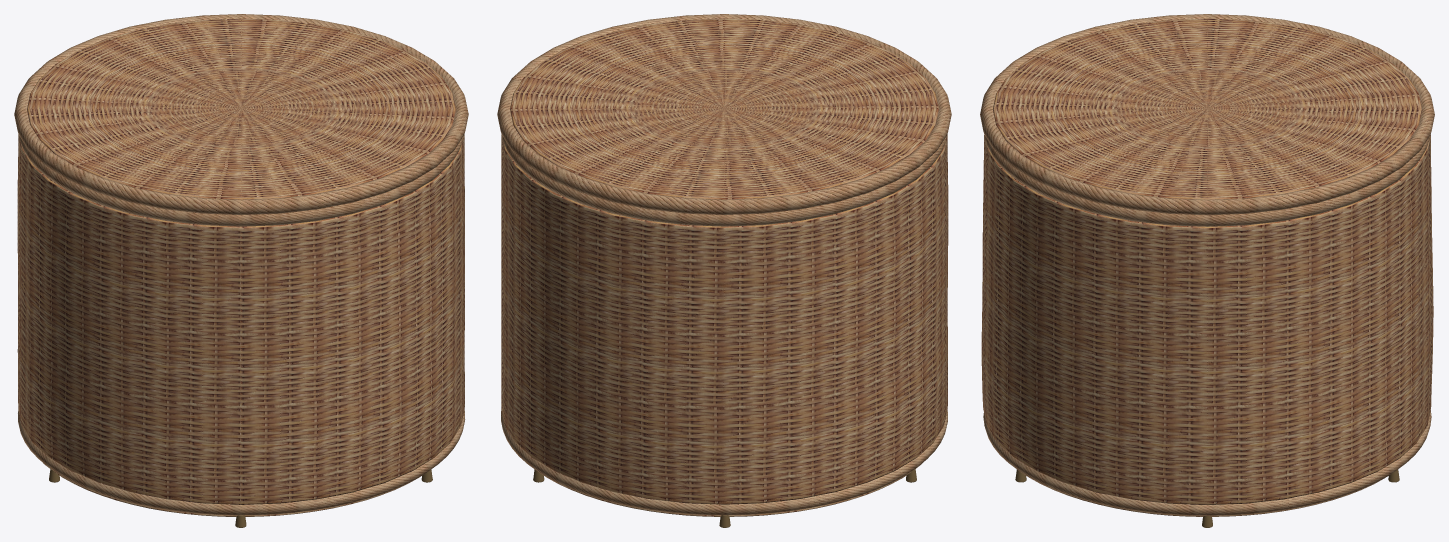
The model's file is tolkning_puf_ze_schowkiem_90512666.glb.
3 views of the same model, side by side, from view 1: azimuth 30°, elevation 25°; view 2: azimuth 150°, elevation 25°; view 3: azimuth 270°, elevation 25° (orthographic).
Parts seen in each view (by area): view 1: tolkning_puf_ze_schowkiem_90512666; view 2: tolkning_puf_ze_schowkiem_90512666; view 3: tolkning_puf_ze_schowkiem_90512666.
Part boxes in pixels (x1,y1,x2,y2): tolkning_puf_ze_schowkiem_90512666: (14,14,468,527); tolkning_puf_ze_schowkiem_90512666: (497,14,951,527); tolkning_puf_ze_schowkiem_90512666: (980,14,1434,527).
Bounding box in the file's own units: 0.5016 × 0.3981 × 0.5016.
Materials: 3 (2 with a texture image).
